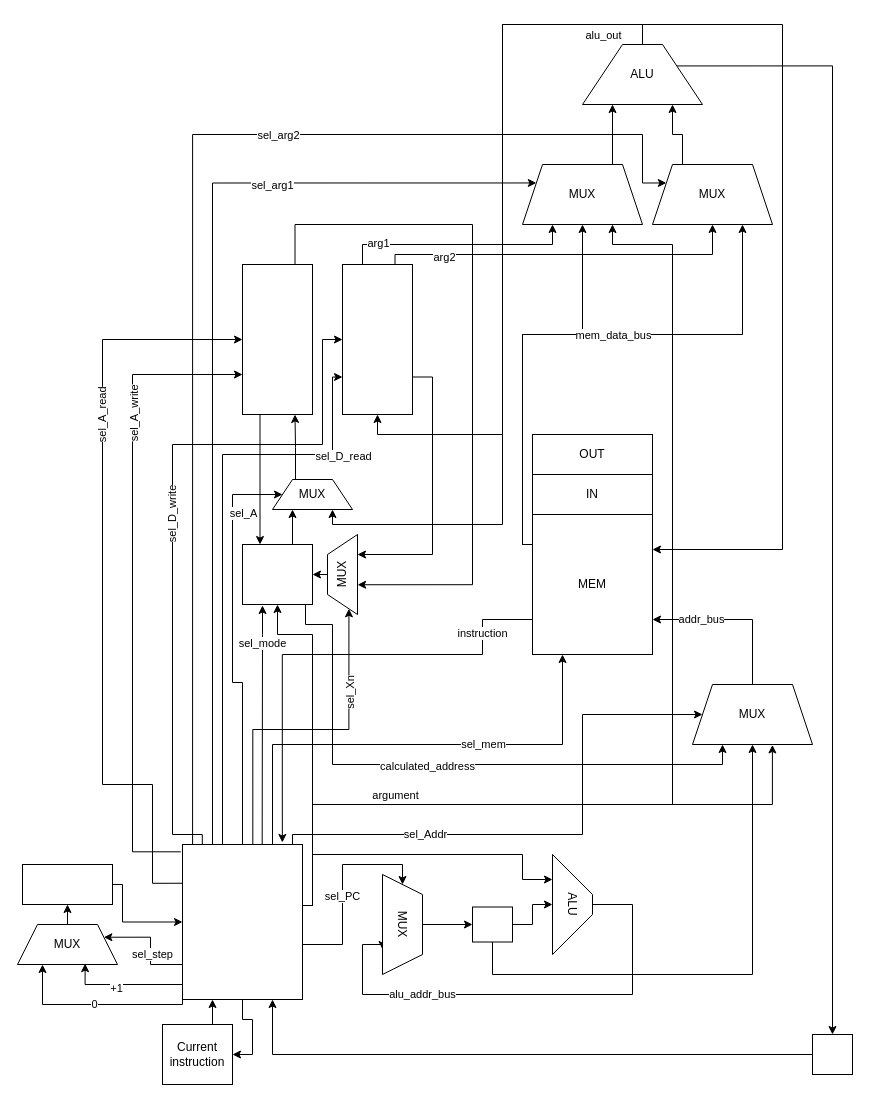
This 870x1102 diagram has some shape labels left out. The shapes that lost their labels are listed below. From the top down, each one's centre as x and y in pixels, then its label:
point 277,339: A0 A1 A2 A3 A4 A5 A6 A7
point 377,339: D0 D1 D2 D3 D4 D5 D6 D7
point 277,574: AGU
point 67,884: Step Counter
point 242,922: Control Unit
point 492,924: PC
point 832,1054: SR
